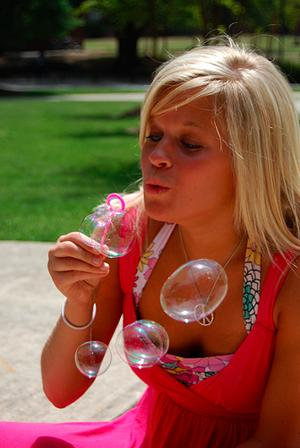person: (41, 49, 300, 445)
